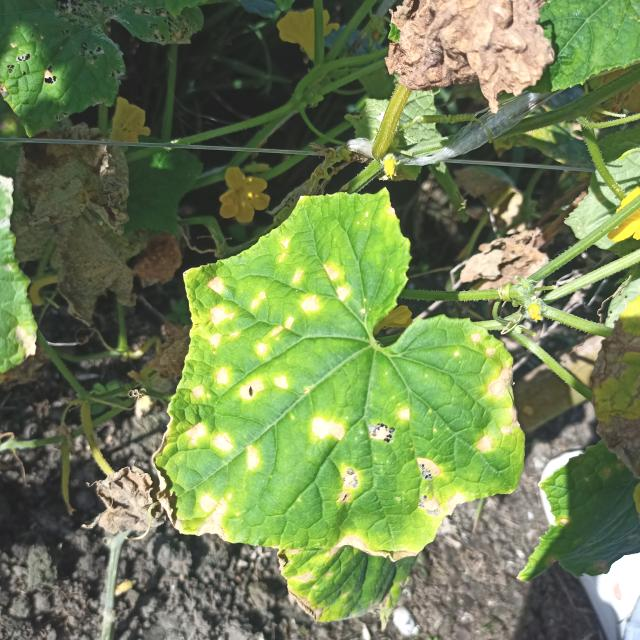disease_cucumber: (166, 229, 517, 548)
